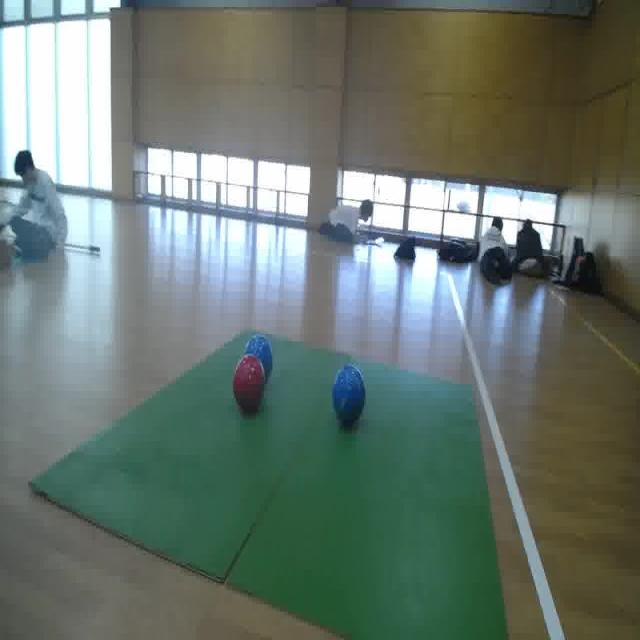blue_ball: (330, 360, 367, 428), (243, 337, 275, 382)
red_ball: (234, 352, 264, 412)
